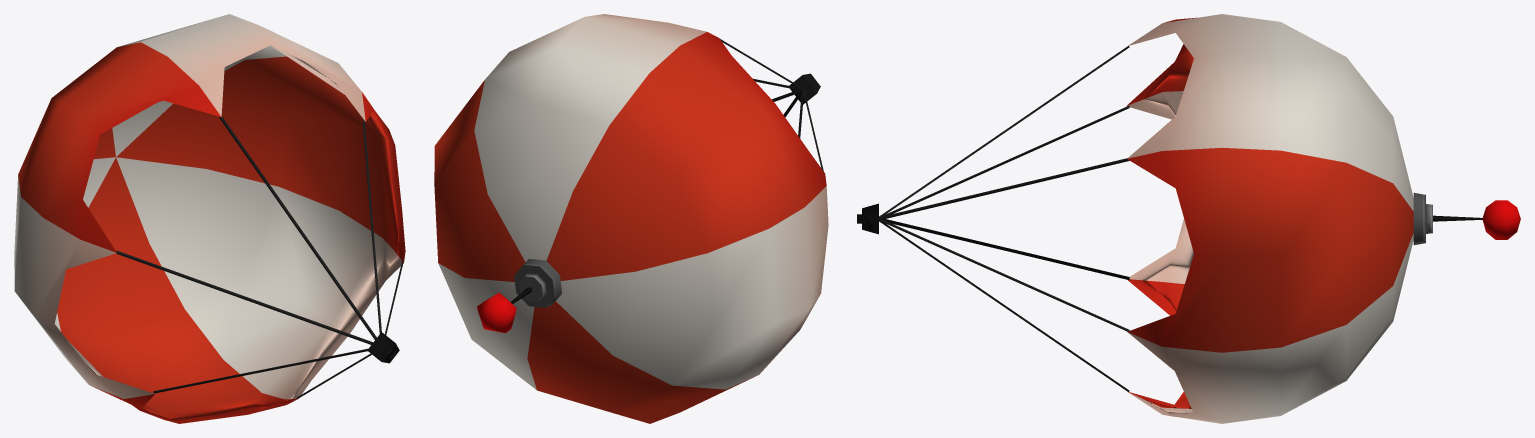
Rendered from Parachute.fbx.
The picture shows the model from 3 angles, left to right: view 1: azimuth 30°, elevation 25°; view 2: azimuth 150°, elevation 25°; view 3: azimuth 270°, elevation 25°; orthographic projection. The views are drawn at different scales.
Parts seen in each view (by area): view 1: Parachute; view 2: Parachute; view 3: Parachute.
Part boxes in pixels (x1,y1,x2,y2): Parachute: (14, 14, 405, 423); Parachute: (434, 14, 828, 423); Parachute: (857, 14, 1520, 423).
Size of the model in its own units: 238 by 238 by 377.
